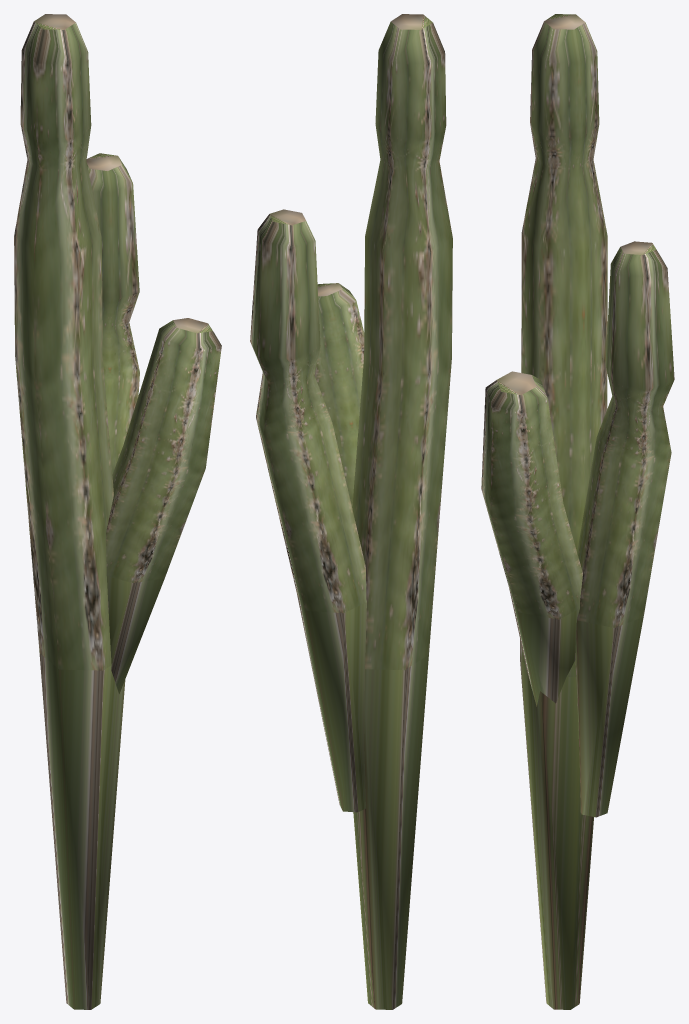
Rendered from cactus_stenocerus_small_d.dae.
3 views of the same model, side by side, from view 1: azimuth 30°, elevation 25°; view 2: azimuth 150°, elevation 25°; view 3: azimuth 270°, elevation 25° (orthographic). The views are drawn at different scales.
Parts seen in each view (by area): view 1: Cylinder_004; view 2: Cylinder_004; view 3: Cylinder_004.
Boxes of the visible parts, x1=… form: Cylinder_004: x1=14, y1=14, x2=221, y2=1009; Cylinder_004: x1=250, y1=14, x2=452, y2=1009; Cylinder_004: x1=481, y1=14, x2=674, y2=1009.
Bounding box in the file's own units: 2.29 × 2.3 × 12.73.
